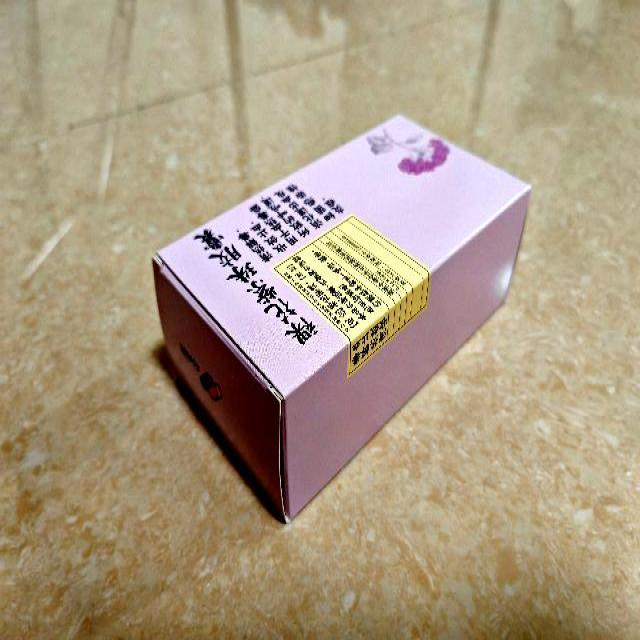box: (153, 112, 531, 526)
